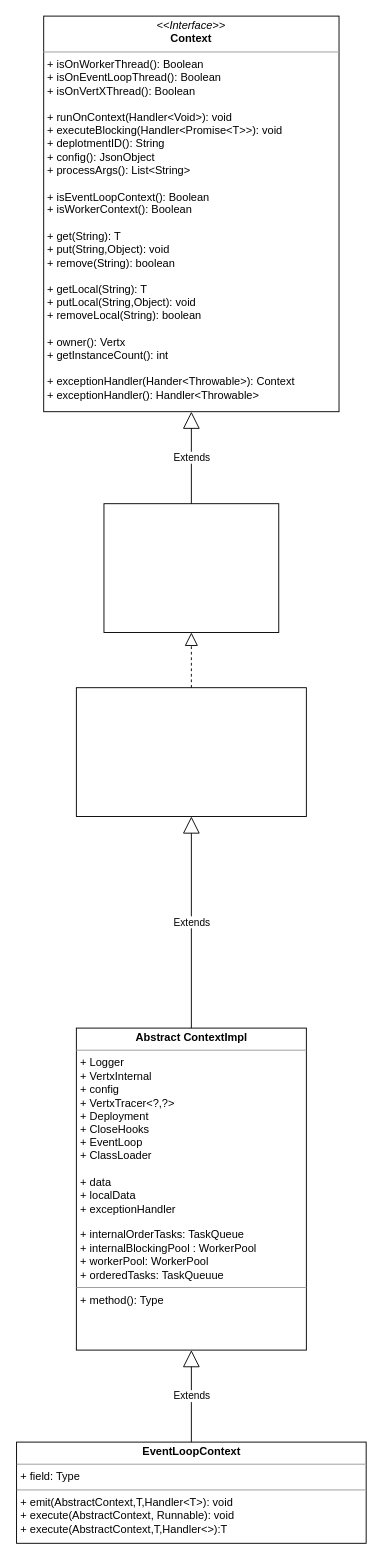
This 382x1559 diagram has some shape labels left out. The shapes that lost their labels are listed below. From the top down, each one's centre as x and y in pixels, then its label:
At (191,567): "<<Interface>> ContextInternal + method1(Type): Event + method2(Type, Type): Type".
At (190,751): "AbstractContext + field: Type + method(): Type".
